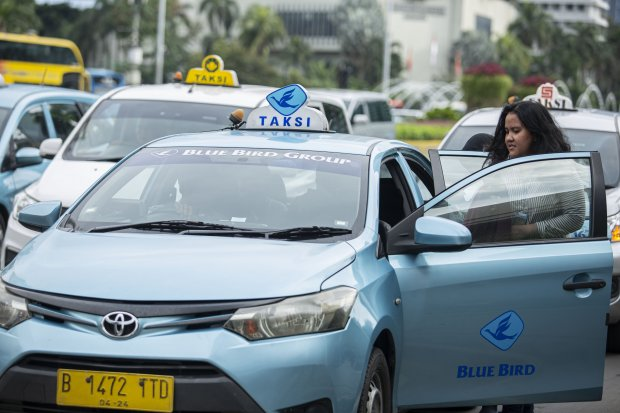plate: (58, 369, 169, 410)
